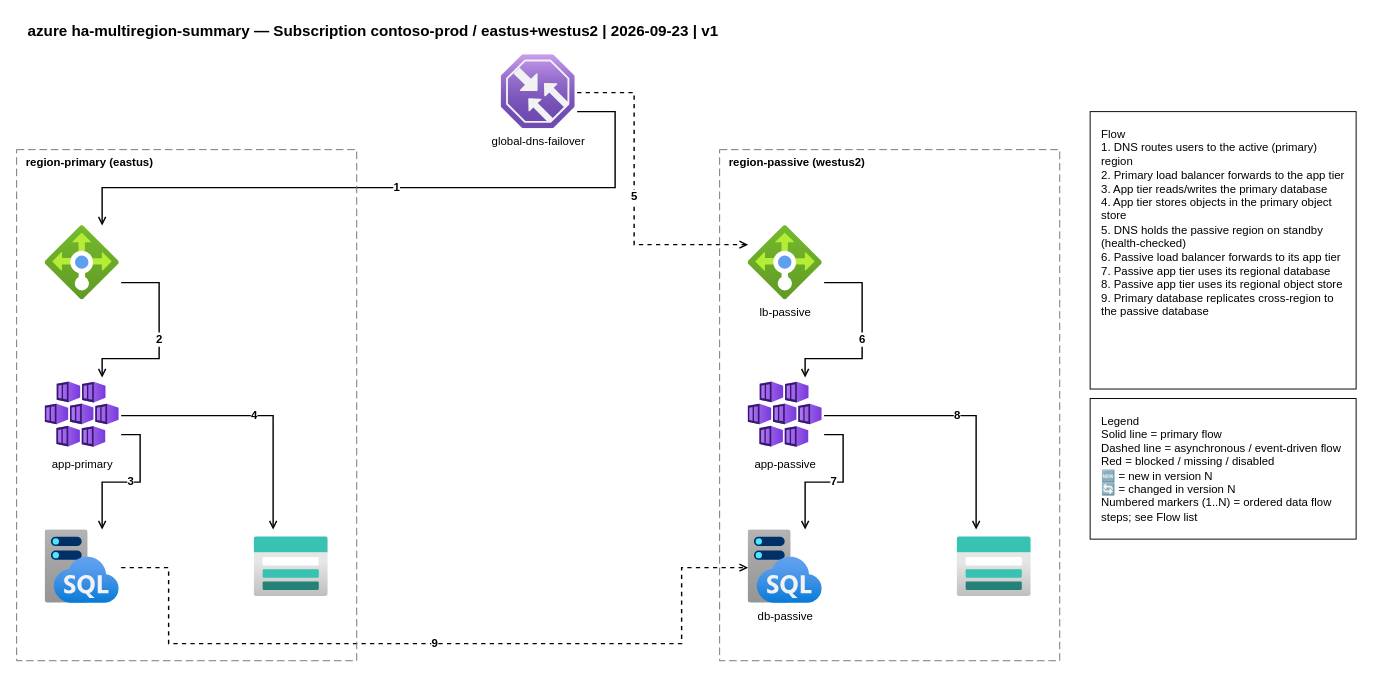
Some shapes in this 1373 by 677 pixel diagram are drawn without their labels. The shapes that lost their labels are listed below. From the top down, each one's centre as x and y in pixels, then its label:
At point (82, 262): "lb-primary".
At point (82, 566): "db-primary".
At point (291, 566): "objstore-primary".
At point (994, 566): "objstore-passive".
